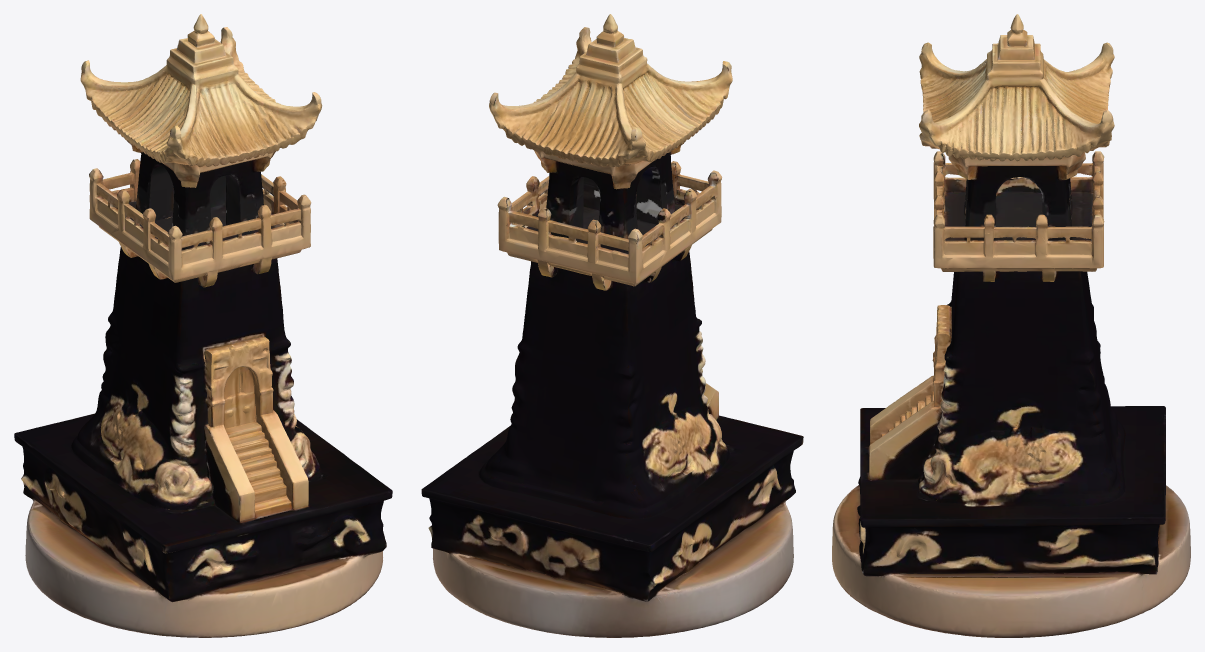
The model's file is rook_black.glb.
The picture shows the model from 3 angles, left to right: view 1: azimuth 30°, elevation 25°; view 2: azimuth 150°, elevation 25°; view 3: azimuth 270°, elevation 25°; orthographic projection.
Parts seen in each view (by area): view 1: model; view 2: model; view 3: model.
Boxes of the visible parts, bbox=[...] form: model: bbox=[14, 14, 392, 637]; model: bbox=[421, 14, 803, 637]; model: bbox=[832, 14, 1190, 637].
Bounding box in the file's own units: 1.12 × 1.9 × 1.12.
1 material, 1 textured.
